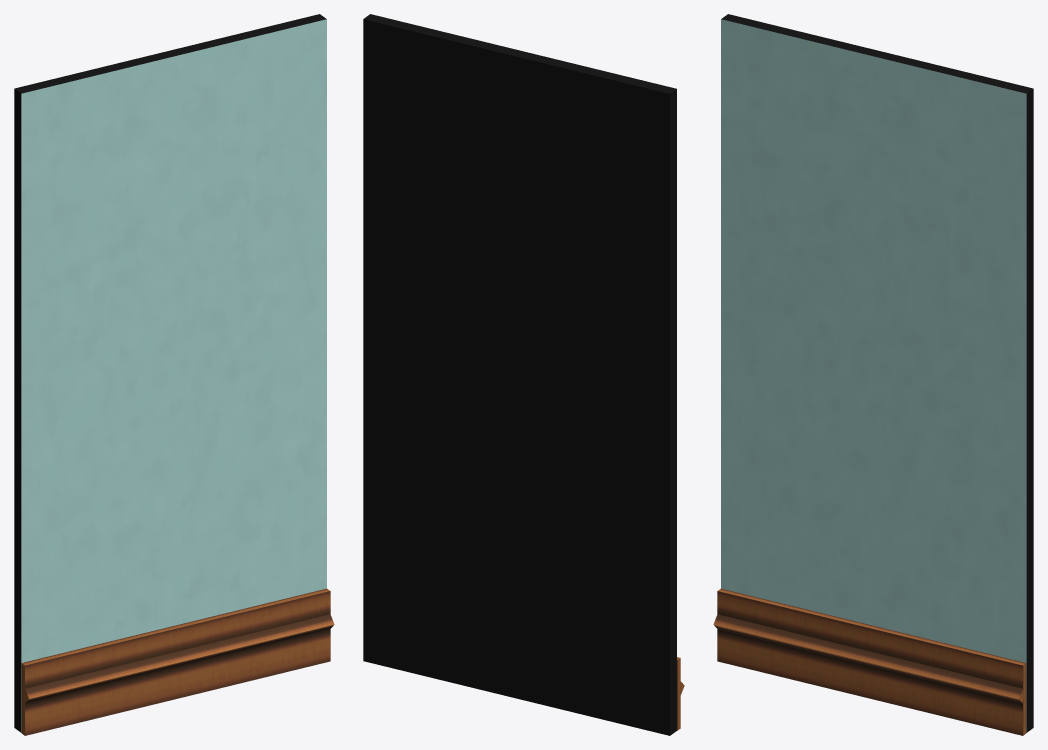
File: Wall_A_2_5_01.FBX
The picture shows the model from 3 angles, left to right: view 1: azimuth 30°, elevation 25°; view 2: azimuth 150°, elevation 25°; view 3: azimuth 330°, elevation 25°; orthographic projection.
Parts seen in each view (by area): view 1: Wall_Plain_2p5m001; view 2: Wall_Plain_2p5m001; view 3: Wall_Plain_2p5m001.
Boxes of the visible parts, x1,y1,x2,y2 form: Wall_Plain_2p5m001: [14, 14, 334, 735]; Wall_Plain_2p5m001: [363, 14, 684, 735]; Wall_Plain_2p5m001: [713, 14, 1033, 735].
Bounding box in the file's own units: 250 × 500 × 20.83.
